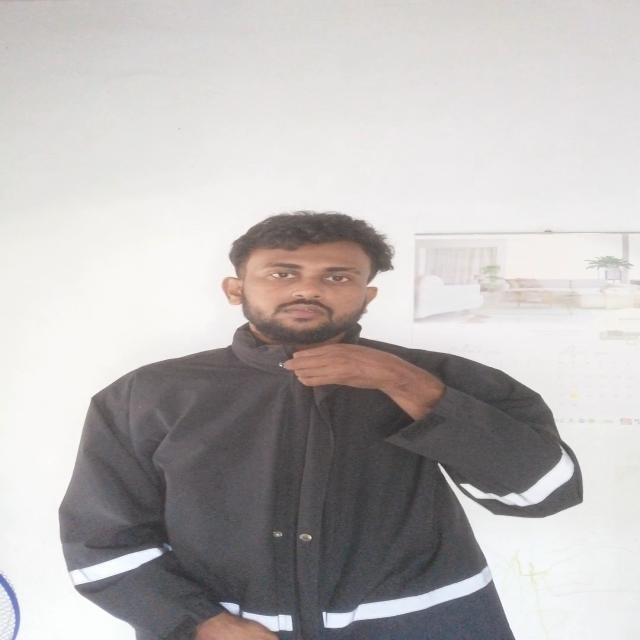Jacket_Wearer: (62, 292, 597, 640)
